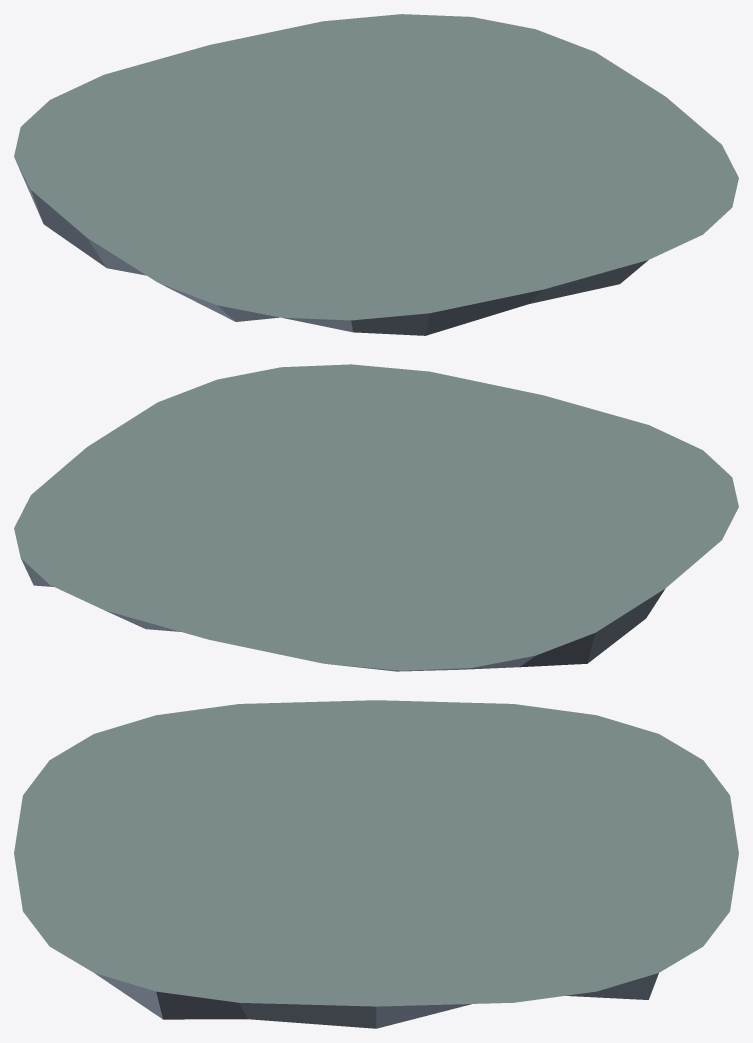
The model's file is Island_Frag_02.glb.
The picture shows the model from 3 angles, top to bottom: view 1: azimuth 30°, elevation 25°; view 2: azimuth 150°, elevation 25°; view 3: azimuth 270°, elevation 25°; orthographic projection. The views are drawn at different scales.
Parts seen in each view (by area): view 1: Island_Frag_02; view 2: Island_Frag_02; view 3: Island_Frag_02.
Boxes of the visible parts, x1,y1,x2,y2 form: Island_Frag_02: [14, 14, 738, 335]; Island_Frag_02: [14, 364, 738, 671]; Island_Frag_02: [14, 700, 738, 1028].
Bounding box in the file's own units: 92 × 9.09 × 92.
